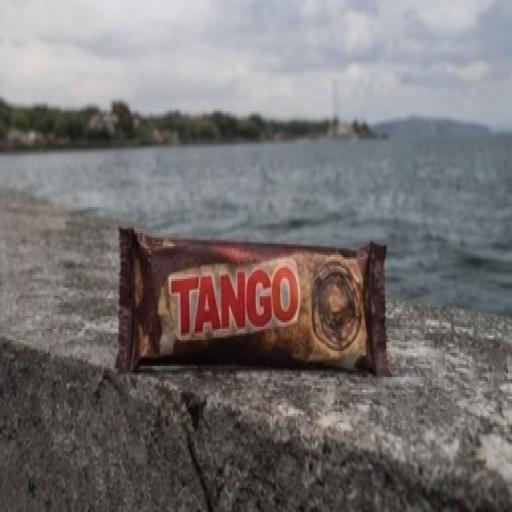tango: (81, 149, 413, 424)
